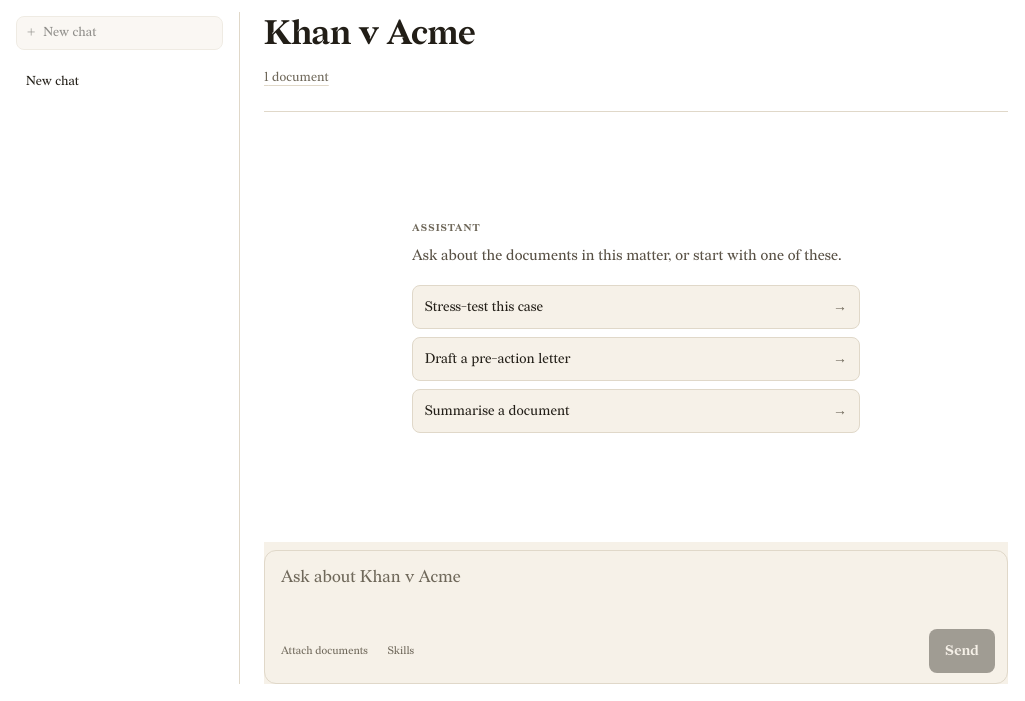
Test case: AssistantTab — failed send › restores the typed prompt into the composer on error
The image size is (1025, 701).
Type "Do not lose me" into the text box with test id "chat-composer-input" at coordinates (636, 586), box [265,551,1007,621]
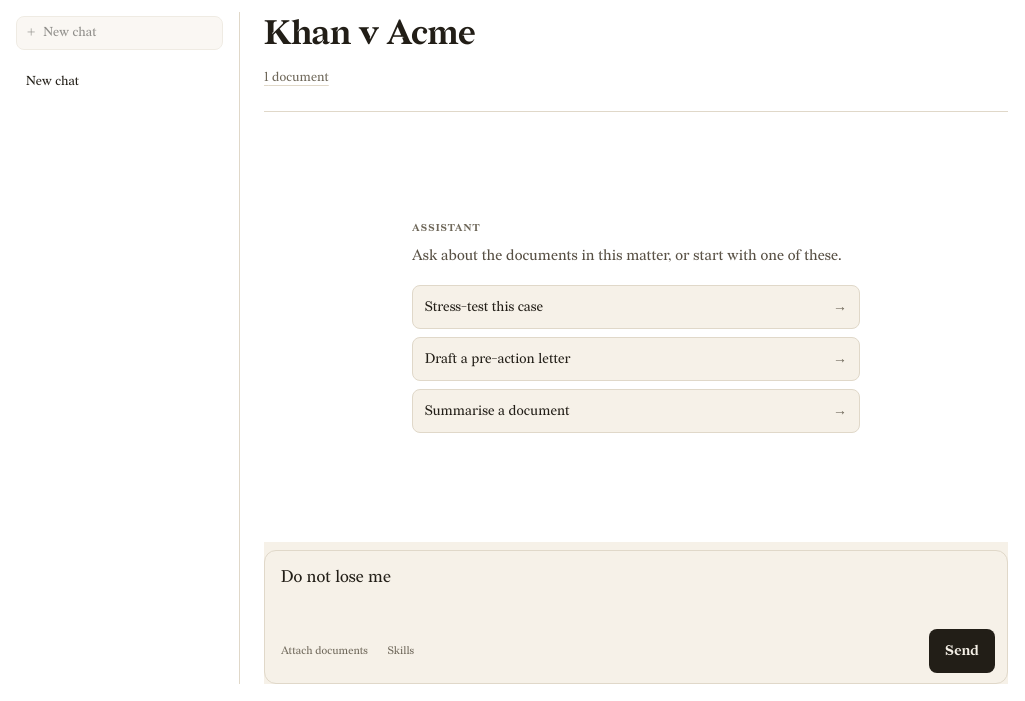
Click the button "Send" at coordinates (962, 651), box [929,629,995,673]
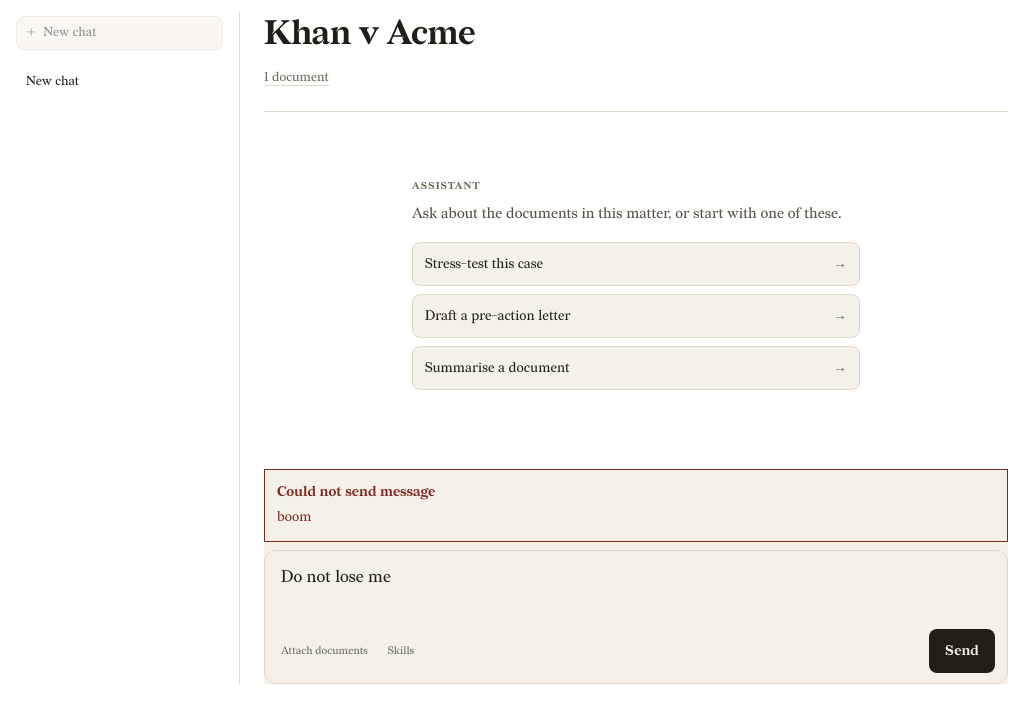
Expected: the text "Could not send message" is shown, [277,483,435,500]
